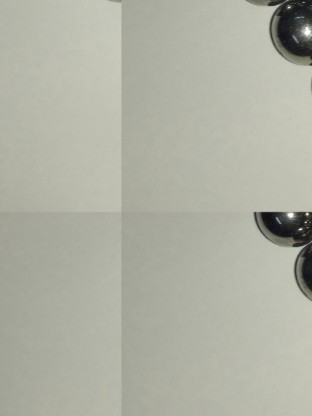ironball: (262, 0, 310, 66), (249, 213, 310, 251), (291, 241, 310, 303)
